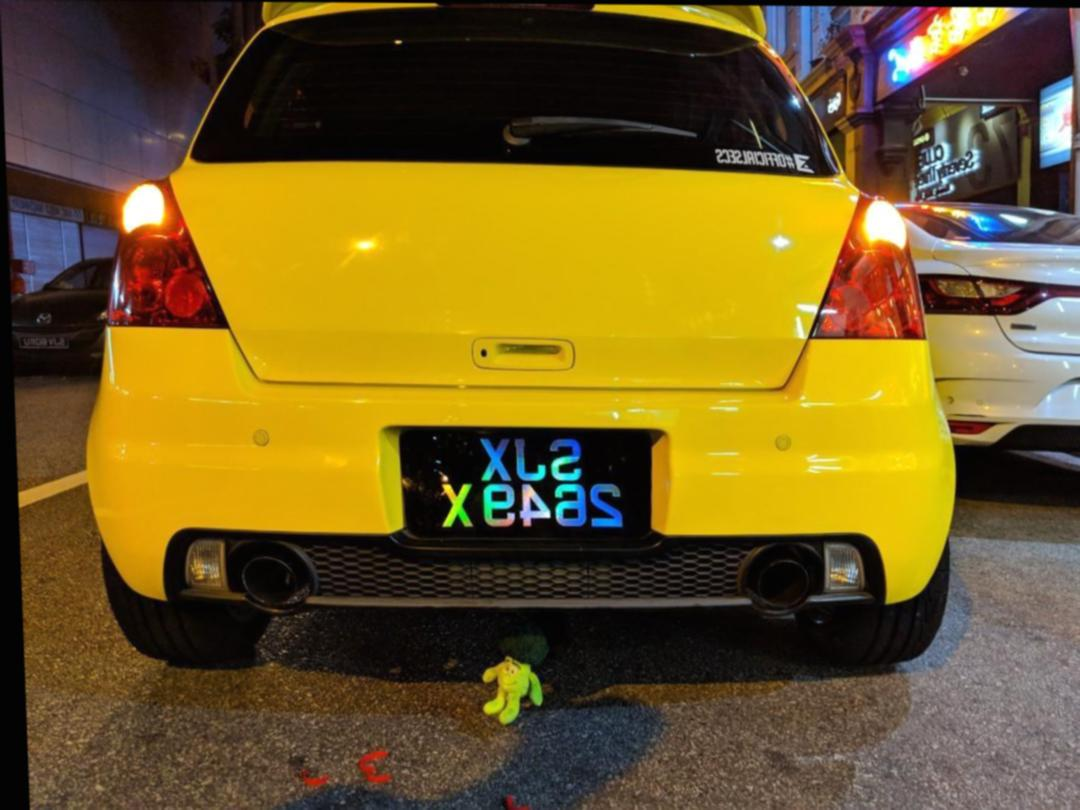License_Plate: (398, 426, 661, 546), (18, 331, 68, 351)
